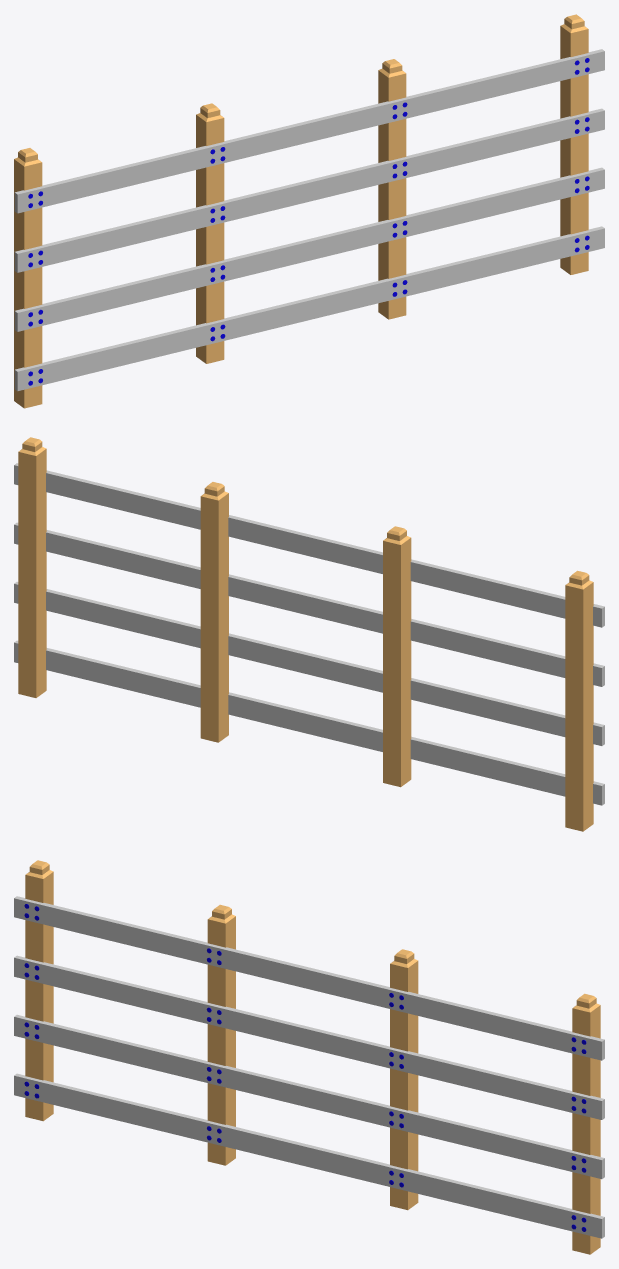
File: Fence_Post.fbx
The picture shows the model from 3 angles, top to bottom: view 1: azimuth 30°, elevation 25°; view 2: azimuth 150°, elevation 25°; view 3: azimuth 330°, elevation 25°; orthographic projection.
Parts seen in each view (by area): view 1: Fence Post; view 2: Fence Post; view 3: Fence Post.
Part boxes in pixels (left/top/right/bottom): Fence Post: left=14, top=14, right=604, bottom=408; Fence Post: left=14, top=437, right=604, bottom=831; Fence Post: left=14, top=860, right=604, bottom=1254.
Bounding box in the file's own units: 1141 × 467 × 43.57.
